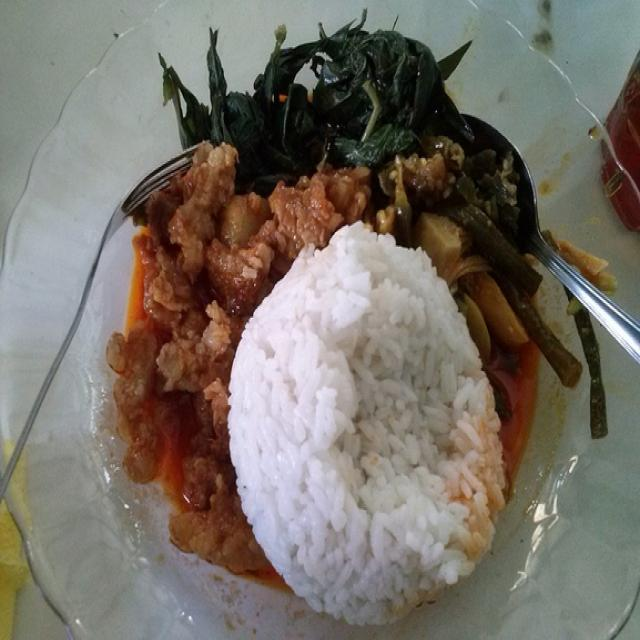米饭主食: (10, 7, 628, 621)
